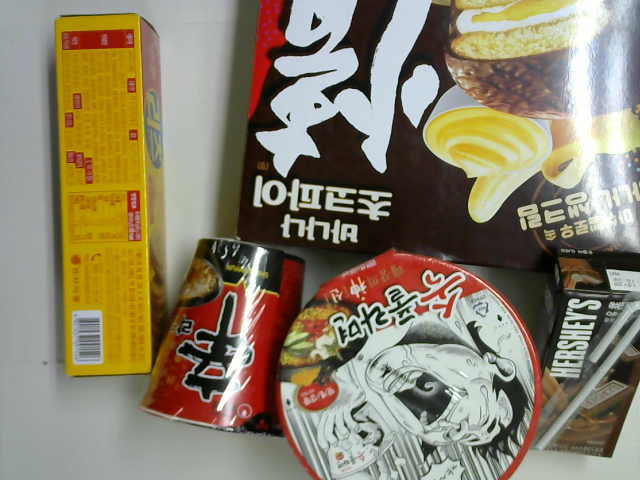Choco_Pie_Banana: (234, 1, 640, 274)
Hejangpul: (274, 248, 545, 480)
Hush_Choco_Drink: (531, 247, 640, 461)
Ritz_Sand_Cracker: (51, 12, 170, 379)
Sinramen_small: (137, 237, 308, 438)
